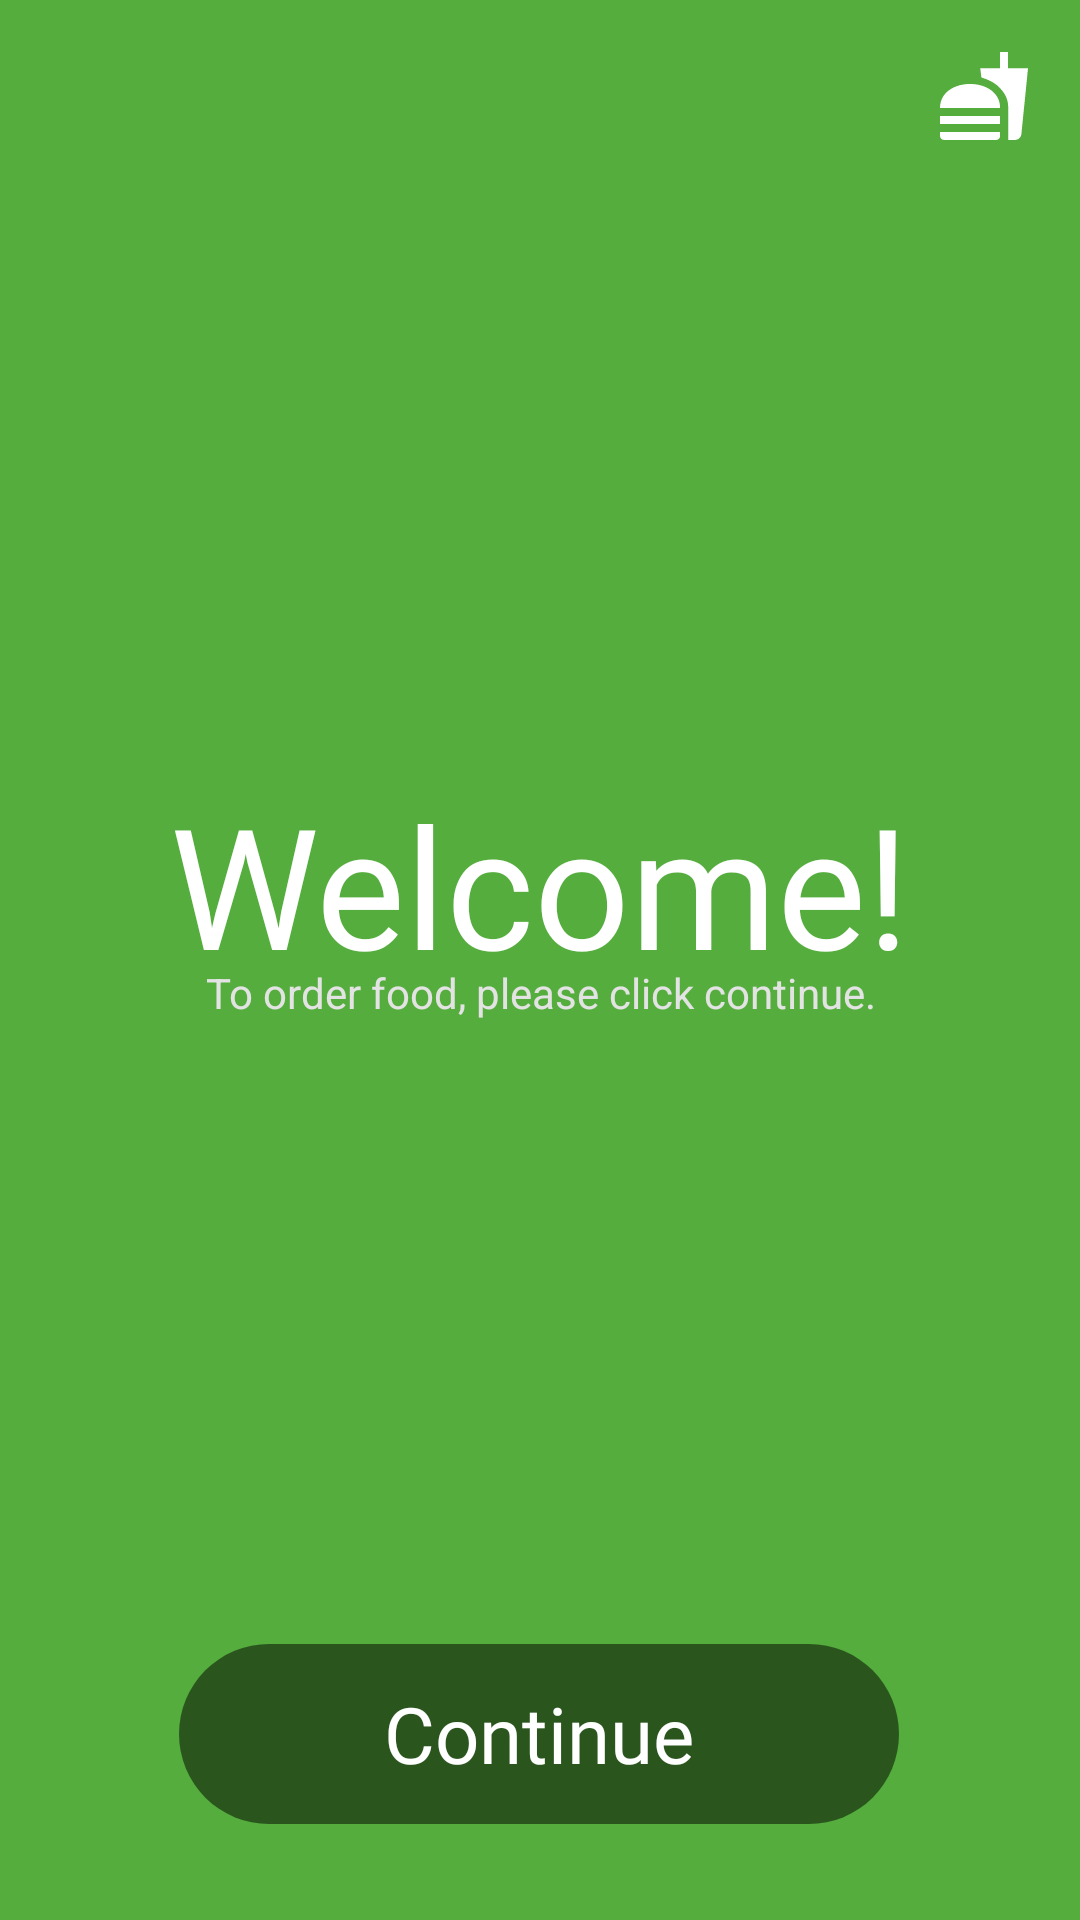

Screen size 1080px x 1920px. Icon name, then its center in pixels as [x,y]:
fastfood: [984,96]
